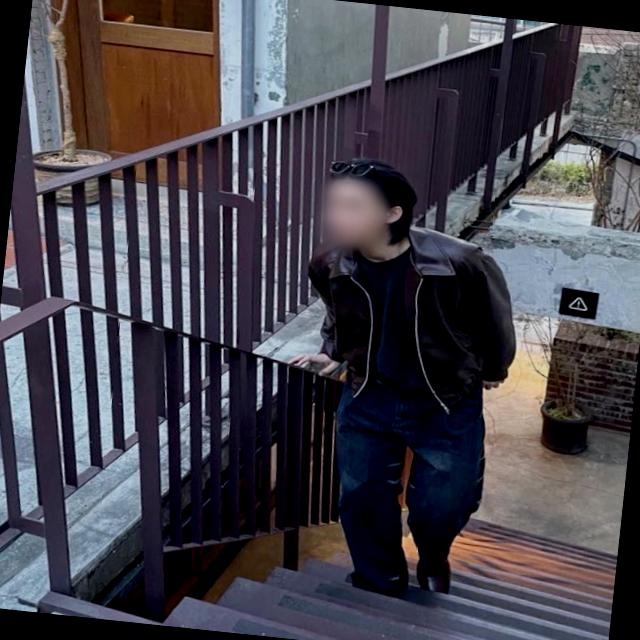denimpants: (322, 372, 496, 608)
jacket: (296, 215, 532, 415)
